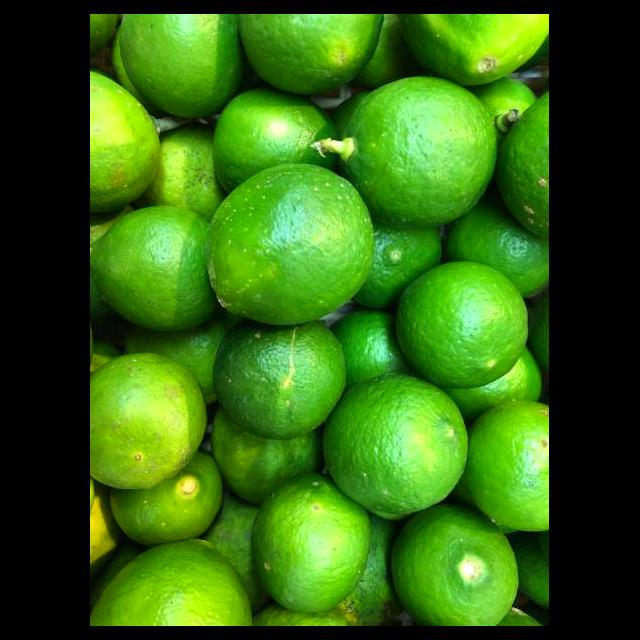lime: (202, 164, 374, 324), (216, 326, 350, 442), (469, 400, 550, 536), (502, 96, 549, 247)
